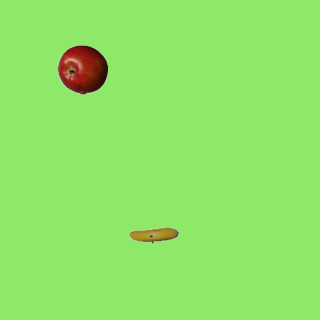Apple Braeburn: (57, 44, 107, 94)
Banana: (128, 210, 178, 260)
